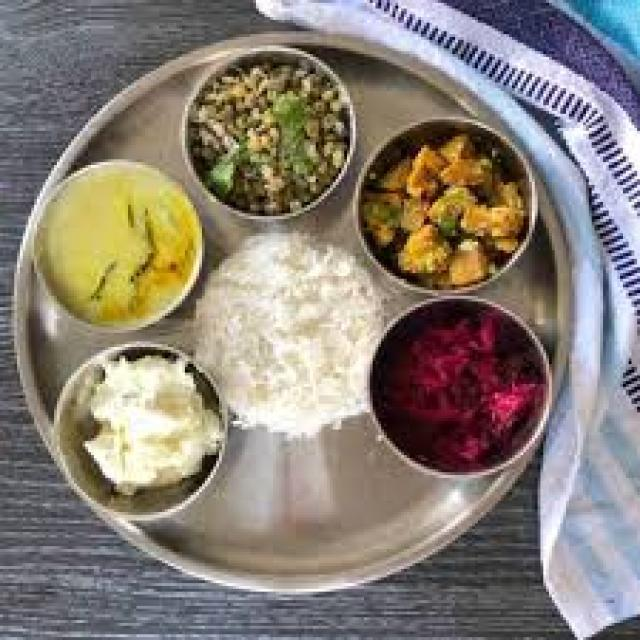dal: (42, 182, 188, 329)
rice: (205, 236, 376, 424)
